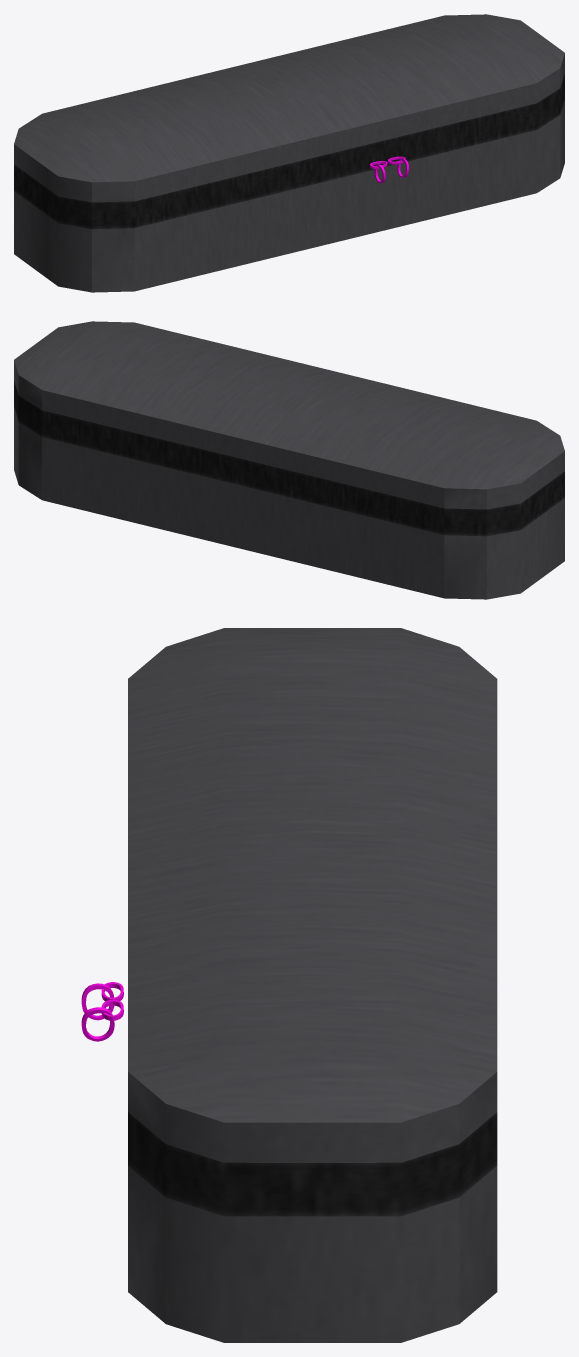
The model's file is Asset_14_PencilBox.fbx.
3 renders of one model, top to bottom at view 1: azimuth 30°, elevation 25°; view 2: azimuth 150°, elevation 25°; view 3: azimuth 270°, elevation 25°, orthographic. The views are drawn at different scales.
Visible parts, largest first — view 1: SK_14_PencilBox; view 2: SK_14_PencilBox; view 3: SK_14_PencilBox.
Part boxes in pixels (box(x1,y1,x2,y2)): SK_14_PencilBox: box(14, 14, 564, 292); SK_14_PencilBox: box(14, 321, 564, 599); SK_14_PencilBox: box(81, 628, 497, 1342).
Bounding box in the file's own units: 1.73 × 0.3974 × 0.6141.
